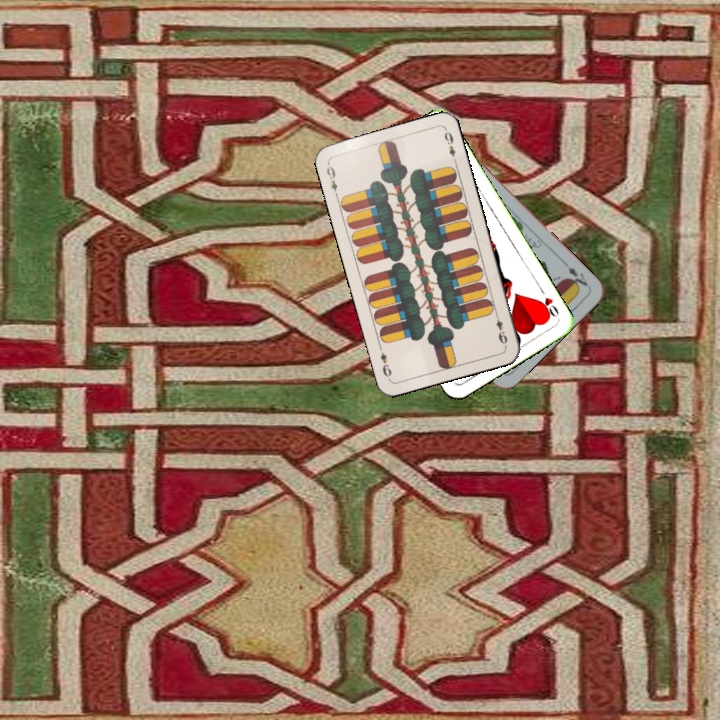E9: (491, 308, 510, 348), (322, 159, 341, 199)
EA: (560, 258, 591, 292)
HO: (535, 284, 562, 320)
